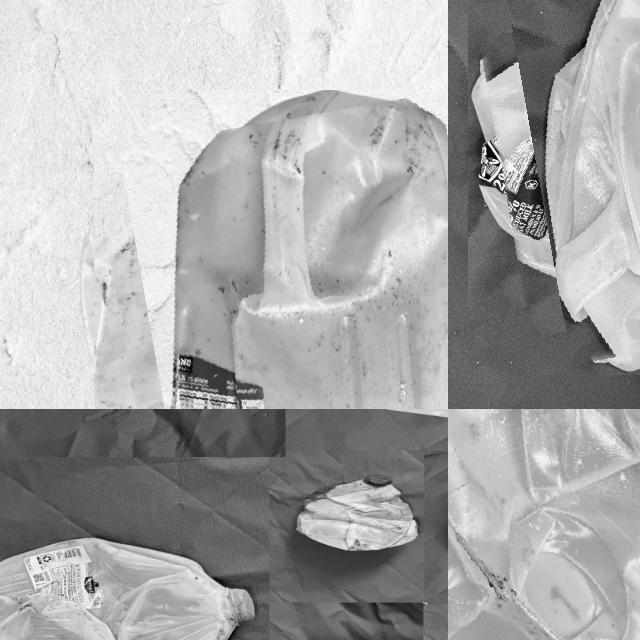milk-jug: (106, 103, 448, 409), (486, 0, 640, 356), (448, 409, 640, 640), (0, 537, 250, 640), (292, 472, 424, 552)
